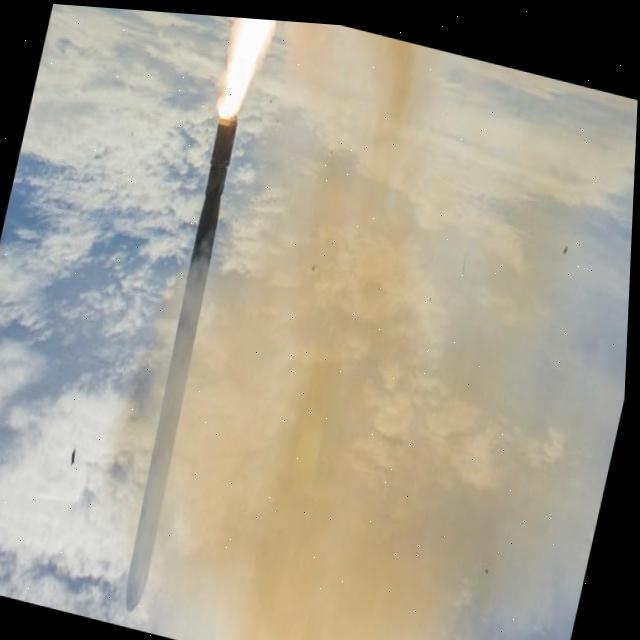missile: (112, 90, 247, 611)
